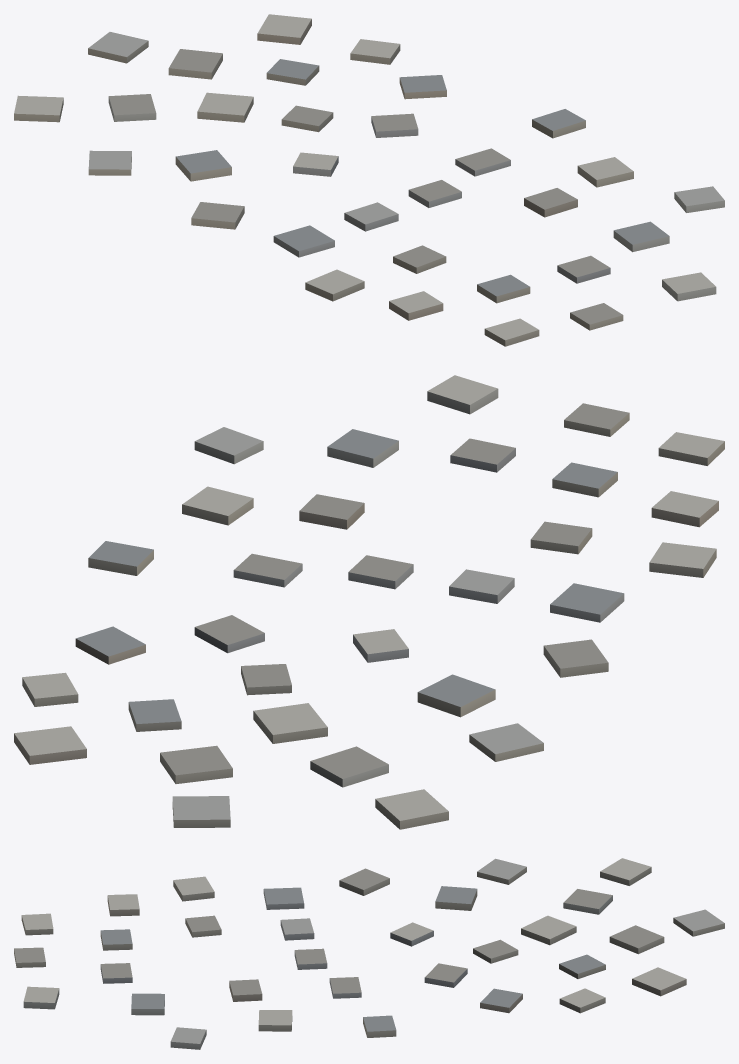
Rendered from bld_15_0.fbx.
3 views of the same model, one above another, from view 1: azimuth 30°, elevation 25°; view 2: azimuth 150°, elevation 25°; view 3: azimuth 270°, elevation 25° (orthographic). The views are drawn at different scales.
Visible parts, largest first — view 1: bld_15_0_LOD0; view 2: bld_15_0_LOD0; view 3: bld_15_0_LOD0.
Part boxes in pixels (left/top/right/bottom): bld_15_0_LOD0: left=14, top=14, right=724, bottom=346; bld_15_0_LOD0: left=14, top=375, right=724, bottom=829; bld_15_0_LOD0: left=14, top=858, right=724, bottom=1049.
Size of the model in its own units: 607 by 10.39 by 980.
